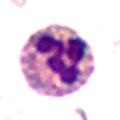neutrophil: (16, 24, 96, 95)
